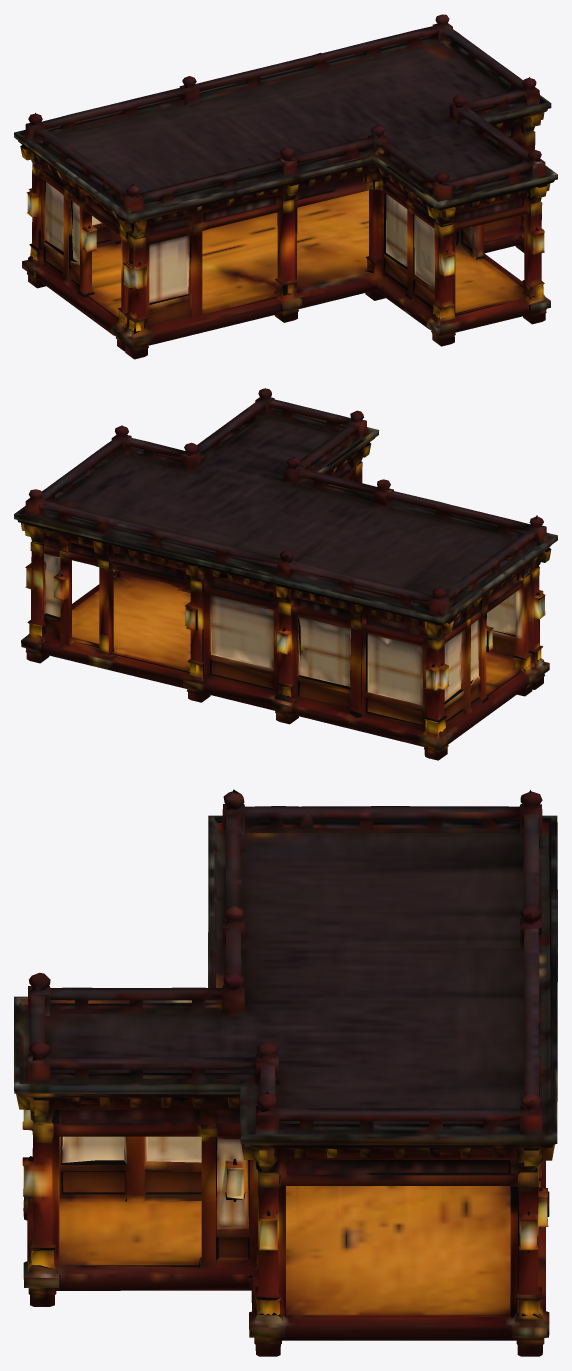
File: HallWay3Way_LOD2.fbx
The picture shows the model from 3 angles, top to bottom: view 1: azimuth 30°, elevation 25°; view 2: azimuth 150°, elevation 25°; view 3: azimuth 270°, elevation 25°; orthographic projection. The views are drawn at different scales.
Parts seen in each view (by area): view 1: node_0.001; view 2: node_0.001; view 3: node_0.001.
Boxes of the visible parts, x1,y1,x2,y2 form: node_0.001: (14,14,557,359); node_0.001: (14,388,557,760); node_0.001: (14,789,557,1356).
Size of the model in its own units: 95.24 by 36.46 by 68.22.
1 material, 1 textured.
